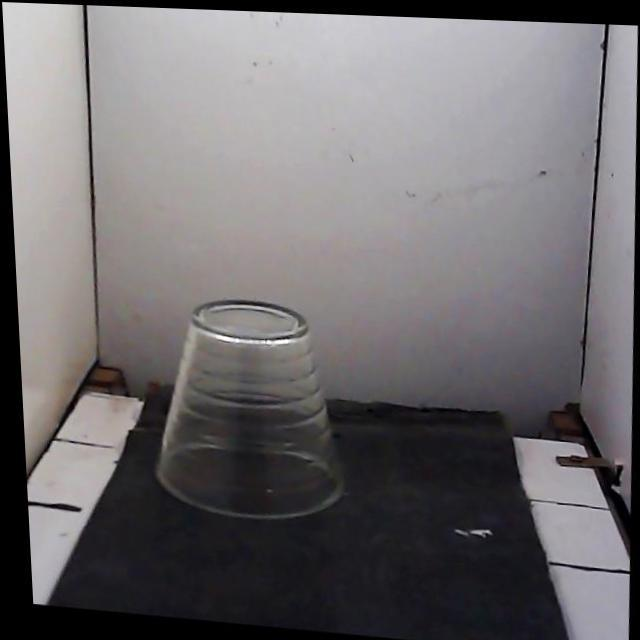vidro: (157, 300, 342, 519)
